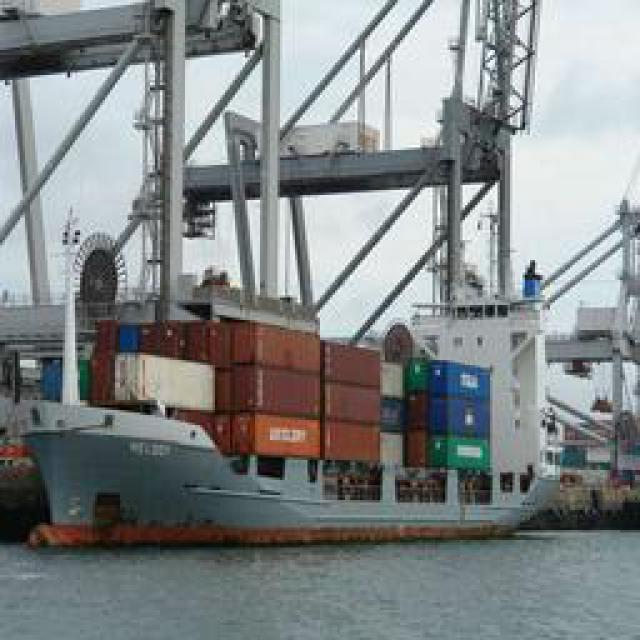Ship: (20, 387, 610, 550)
